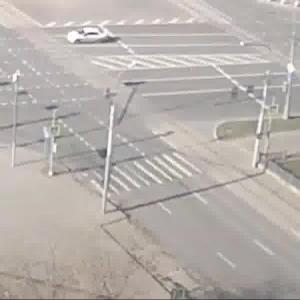car: (65, 26, 109, 47)
